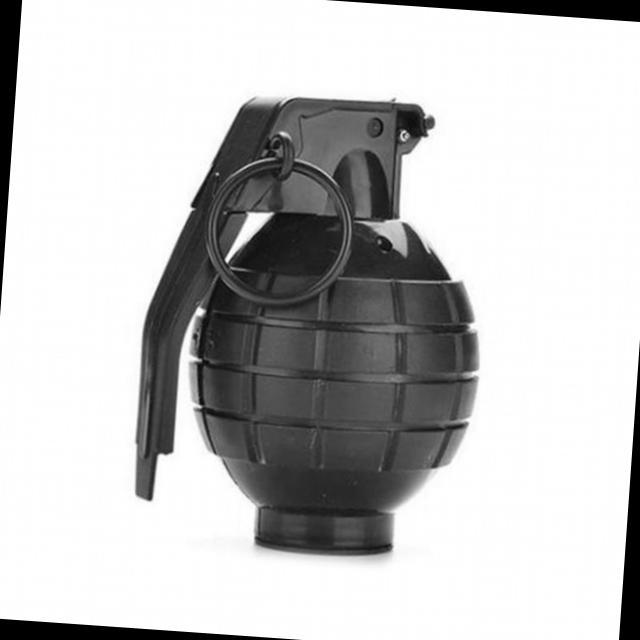grenade: (99, 81, 498, 572)
